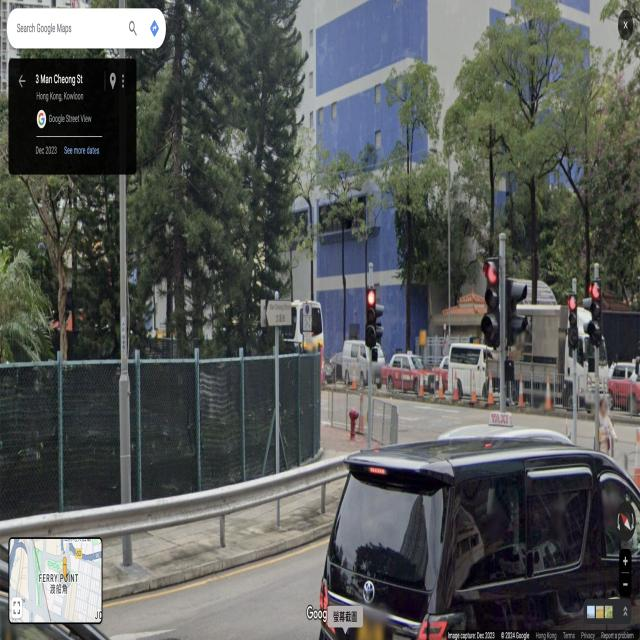Order-Sign: (303, 303, 312, 331)
Street-Direction-Sign: (266, 299, 292, 327)
